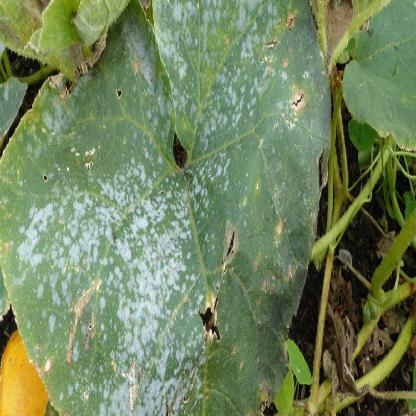Squash Powdery mildew leaf: (19, 7, 310, 415)
